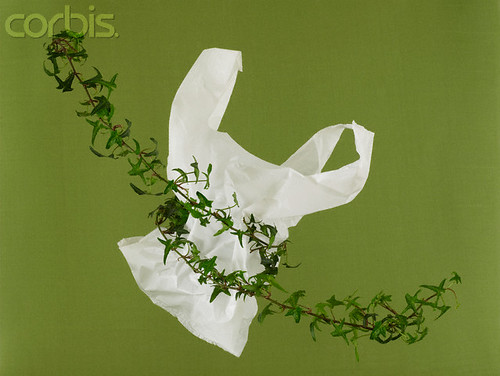plastic bag: (115, 46, 375, 359)
